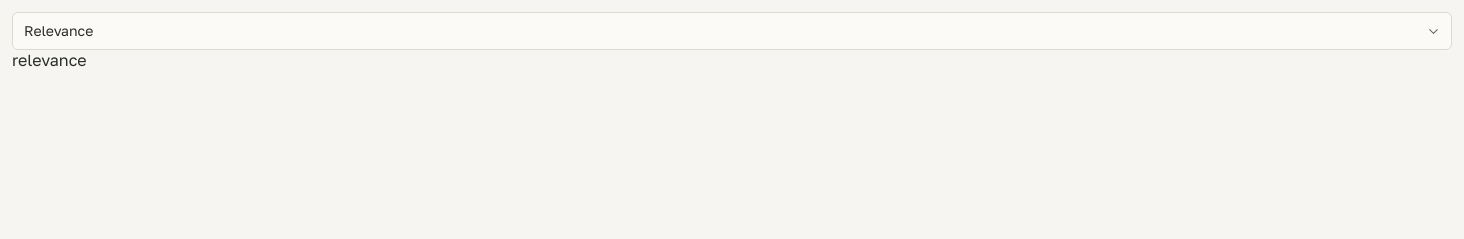
Test case: SelectDropdown › closes on Escape without changing the value, and on Tab
Click the dropdown labelled "Relevance": click(59, 30) [12,12,1452,50]
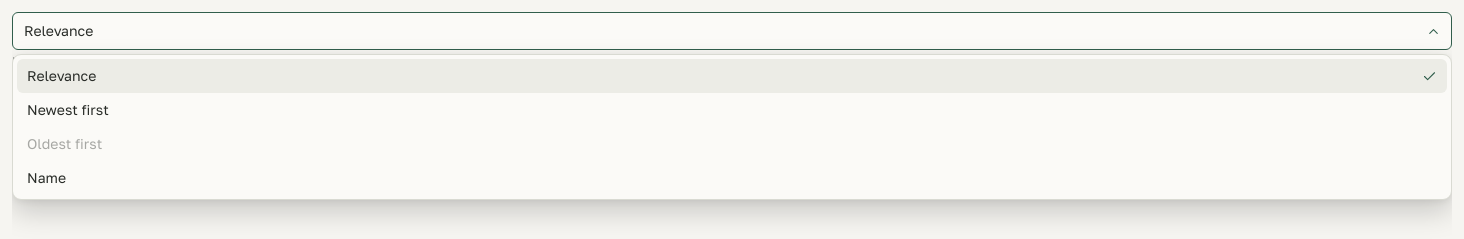
Press ArrowDown in the dropdown labelled "Relevance", box [12,12,1452,50]
Press Escape in the dropdown labelled "Relevance", box [12,12,1452,50]
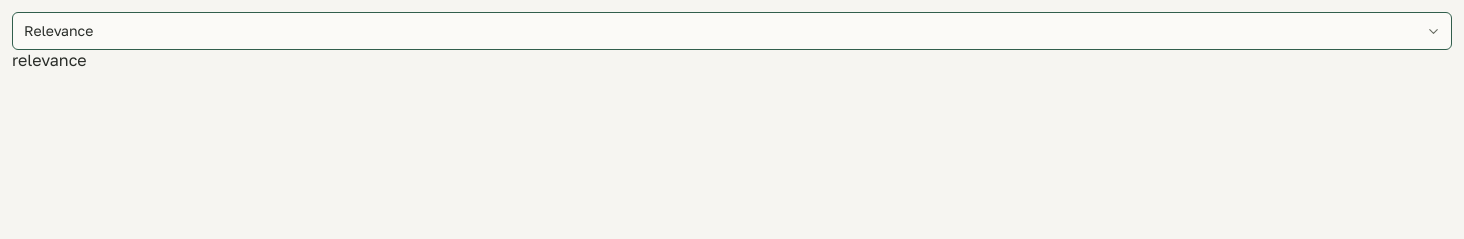
Expected: the text "relevance" is shown, [12,50,87,70]
Result: the list is gone
Click the dropdown labelled "Relevance": click(59, 30) [12,12,1452,50]
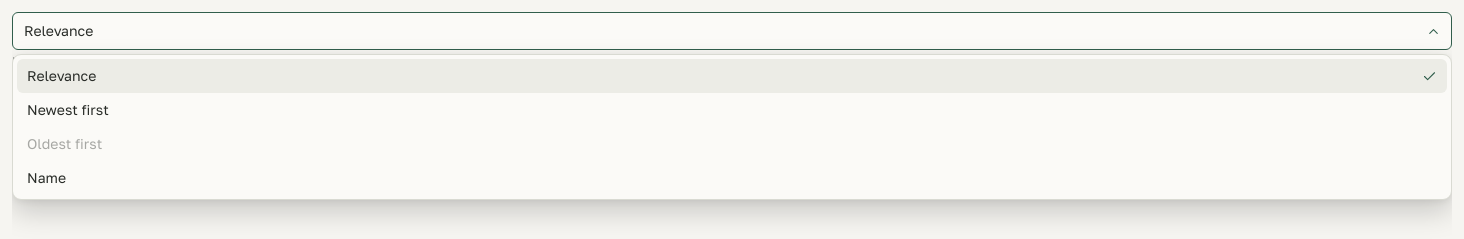
Press Tab in the dropdown labelled "Relevance", box [12,12,1452,50]
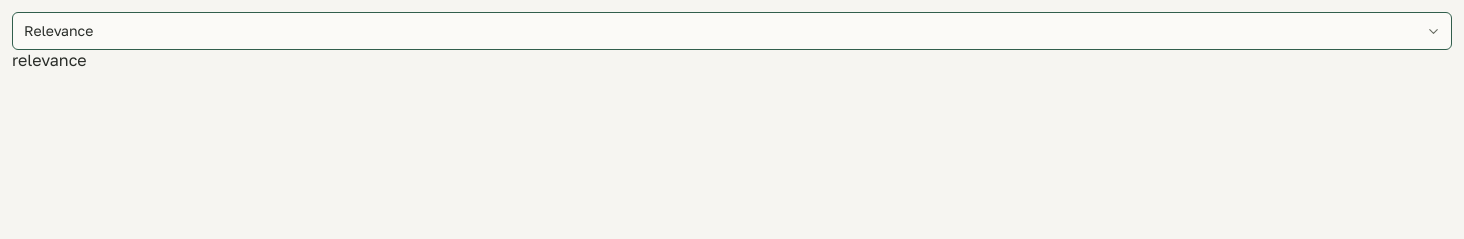
Result: the list is gone
